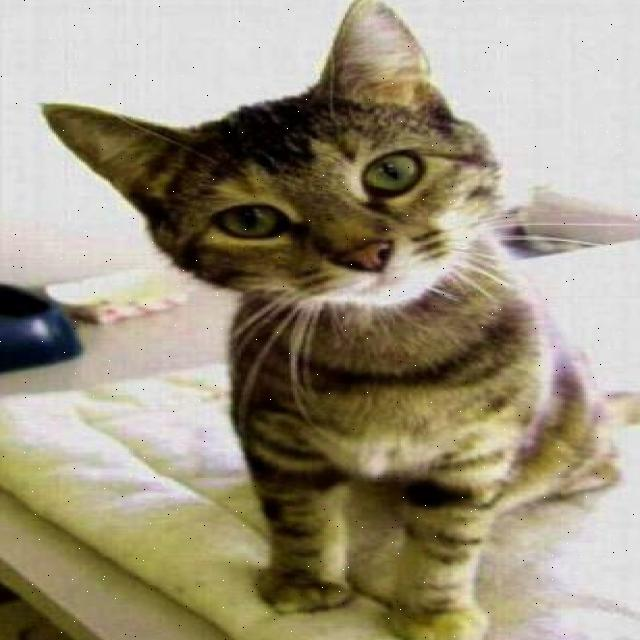Cat: (15, 0, 588, 362)
